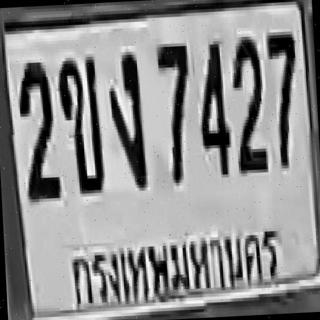A02: (56, 52, 103, 190)
A07: (105, 47, 145, 188)
N02: (16, 57, 59, 198), (228, 34, 265, 171)
N04: (194, 37, 231, 174)
N07: (154, 39, 193, 182), (264, 27, 299, 164)
P04: (60, 216, 291, 308)
